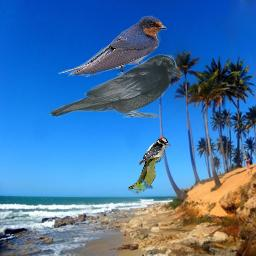Crow: (49, 54, 182, 118)
Cuckoo: (128, 156, 160, 194)
Swallow: (58, 15, 167, 77)
Woodpecker: (139, 137, 172, 174)
